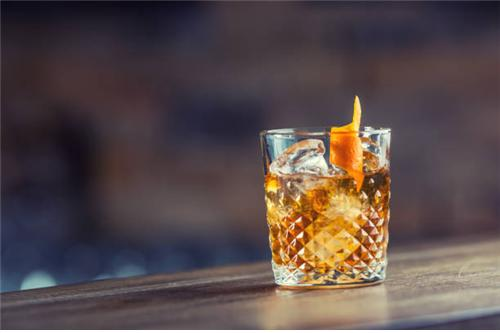alcohol: (263, 127, 389, 292)
